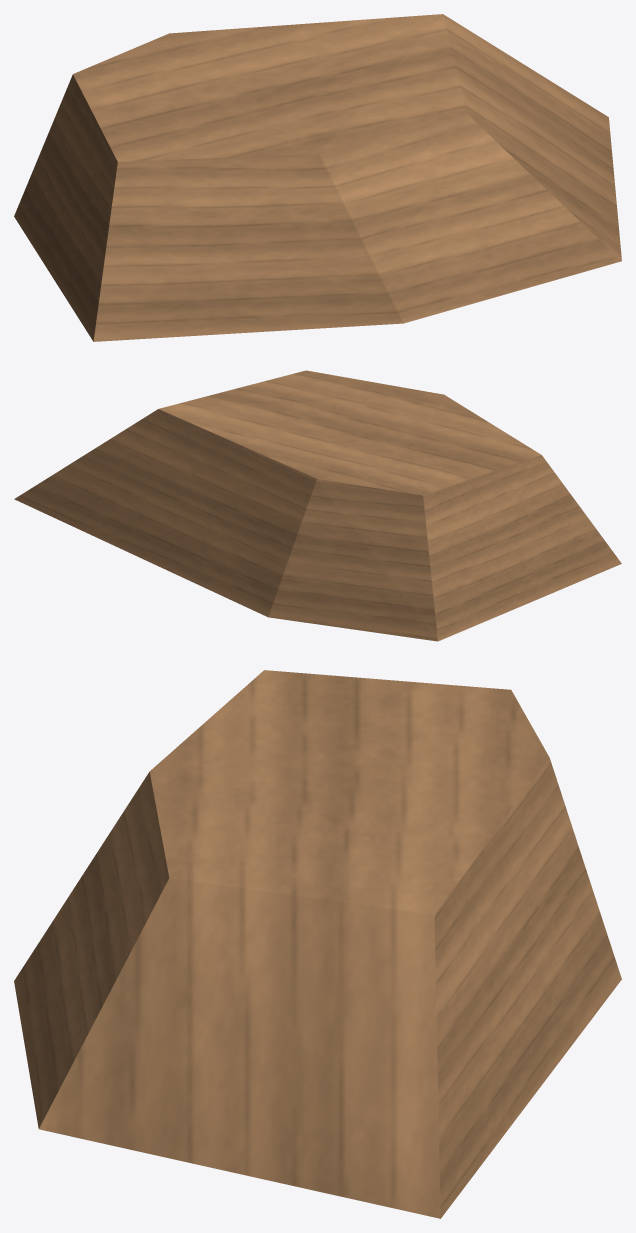
File: outcrop_sandstone_terrace_LOD1.glb
3 views of the same model, one above another, from view 1: azimuth 30°, elevation 25°; view 2: azimuth 150°, elevation 25°; view 3: azimuth 270°, elevation 25° (orthographic). The views are drawn at different scales.
Parts seen in each view (by area): view 1: outcrop_sandstone_terrace_LOD1; view 2: outcrop_sandstone_terrace_LOD1; view 3: outcrop_sandstone_terrace_LOD1.
Boxes of the visible parts, box(x1,y1,x2,y2) form: outcrop_sandstone_terrace_LOD1: box(14, 14, 621, 341); outcrop_sandstone_terrace_LOD1: box(14, 370, 621, 641); outcrop_sandstone_terrace_LOD1: box(14, 670, 621, 1218).
Size of the model in its own units: 3.03 by 0.71 by 1.94.
Materials: 1 (1 with a texture image).
